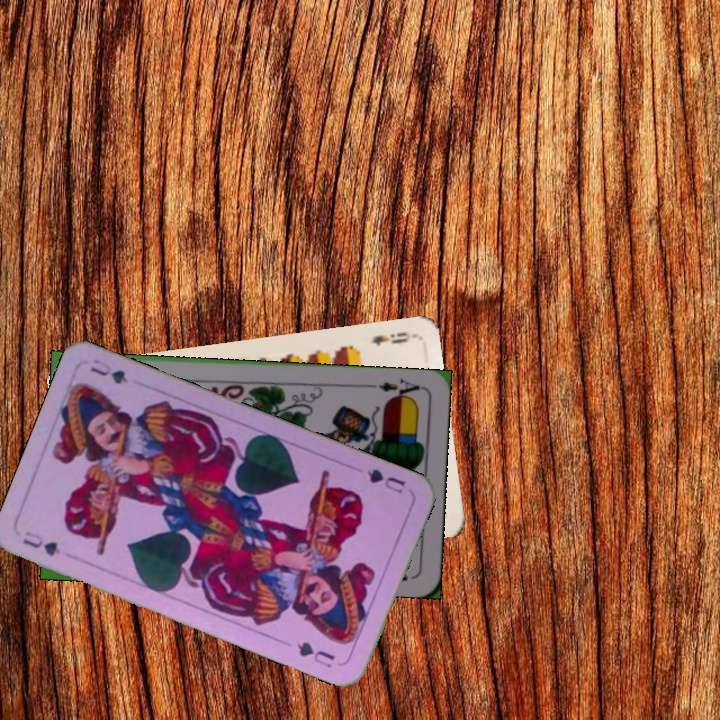E9: (368, 328, 416, 348)
EA: (375, 375, 424, 403)
GU: (362, 464, 408, 496), (19, 527, 63, 559)
